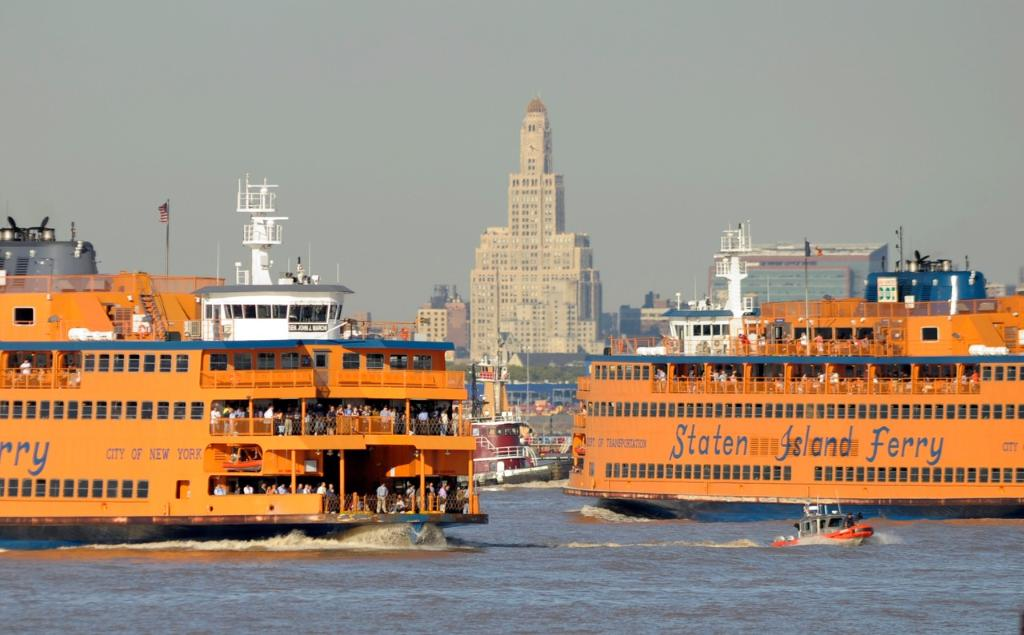PassengerShip: (0, 162, 490, 548), (560, 208, 1024, 548)
